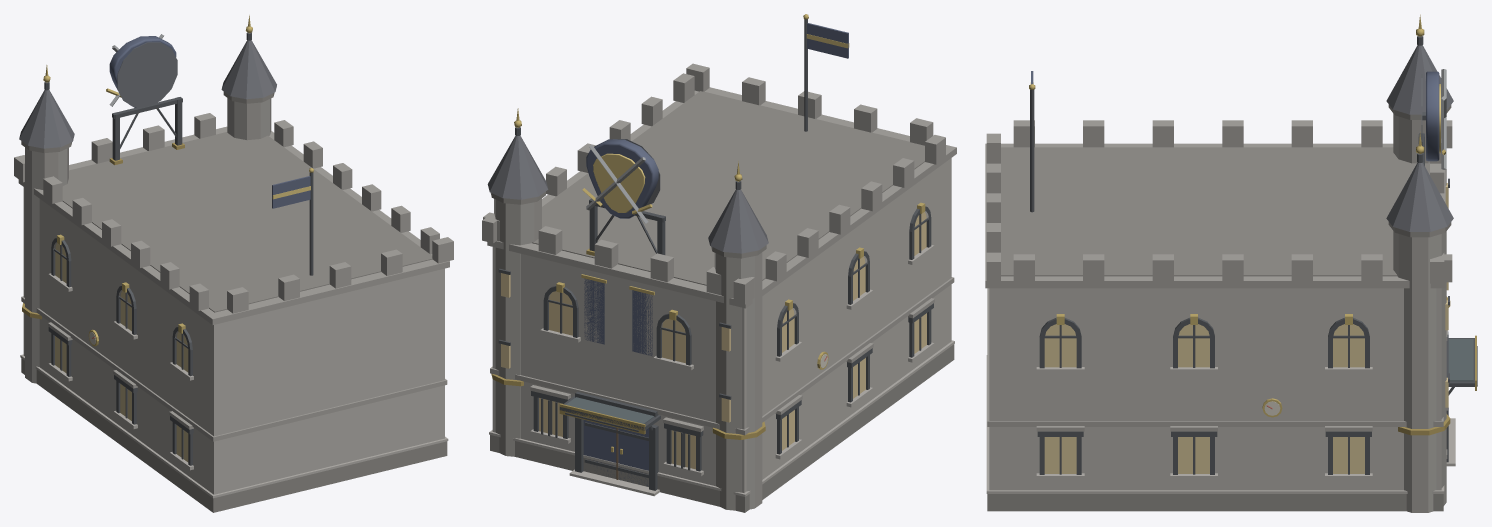
Rendered from centro-arsenal-7d809c75.glb.
3 views of the same model, side by side, from view 1: azimuth 30°, elevation 25°; view 2: azimuth 150°, elevation 25°; view 3: azimuth 270°, elevation 25° (orthographic). The views are drawn at different scales.
Parts seen in each view (by area): view 1: centro_arsenal_body, centro_arsenal_wall, centro_arsenal_lamp, centro_arsenal_glow; view 2: centro_arsenal_body, centro_arsenal_wall, centro_arsenal_lamp, centro_arsenal_glow; view 3: centro_arsenal_body, centro_arsenal_wall, centro_arsenal_lamp, centro_arsenal_glow.
Part boxes in pixels (x1,y1,x2,y2): centro_arsenal_body: (14, 15, 453, 498); centro_arsenal_wall: (21, 187, 447, 512); centro_arsenal_lamp: (55, 243, 188, 462); centro_arsenal_glow: (109, 34, 176, 107); centro_arsenal_body: (482, 14, 956, 510); centro_arsenal_wall: (490, 158, 954, 512); centro_arsenal_lamp: (501, 212, 926, 469); centro_arsenal_glow: (586, 139, 658, 223); centro_arsenal_body: (985, 14, 1477, 512); centro_arsenal_wall: (987, 288, 1443, 511); centro_arsenal_lamp: (1044, 183, 1448, 473); centro_arsenal_glow: (1426, 69, 1446, 169).
Bounding box in the file's own units: 9.61 × 11.5 × 13.84.
